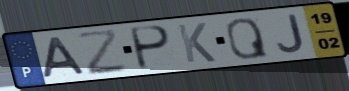A: (41, 35, 89, 80)
J: (275, 12, 307, 54)
K: (174, 21, 218, 65)
P: (130, 24, 174, 72)
Q: (224, 17, 271, 61)
Z: (74, 27, 131, 77)
